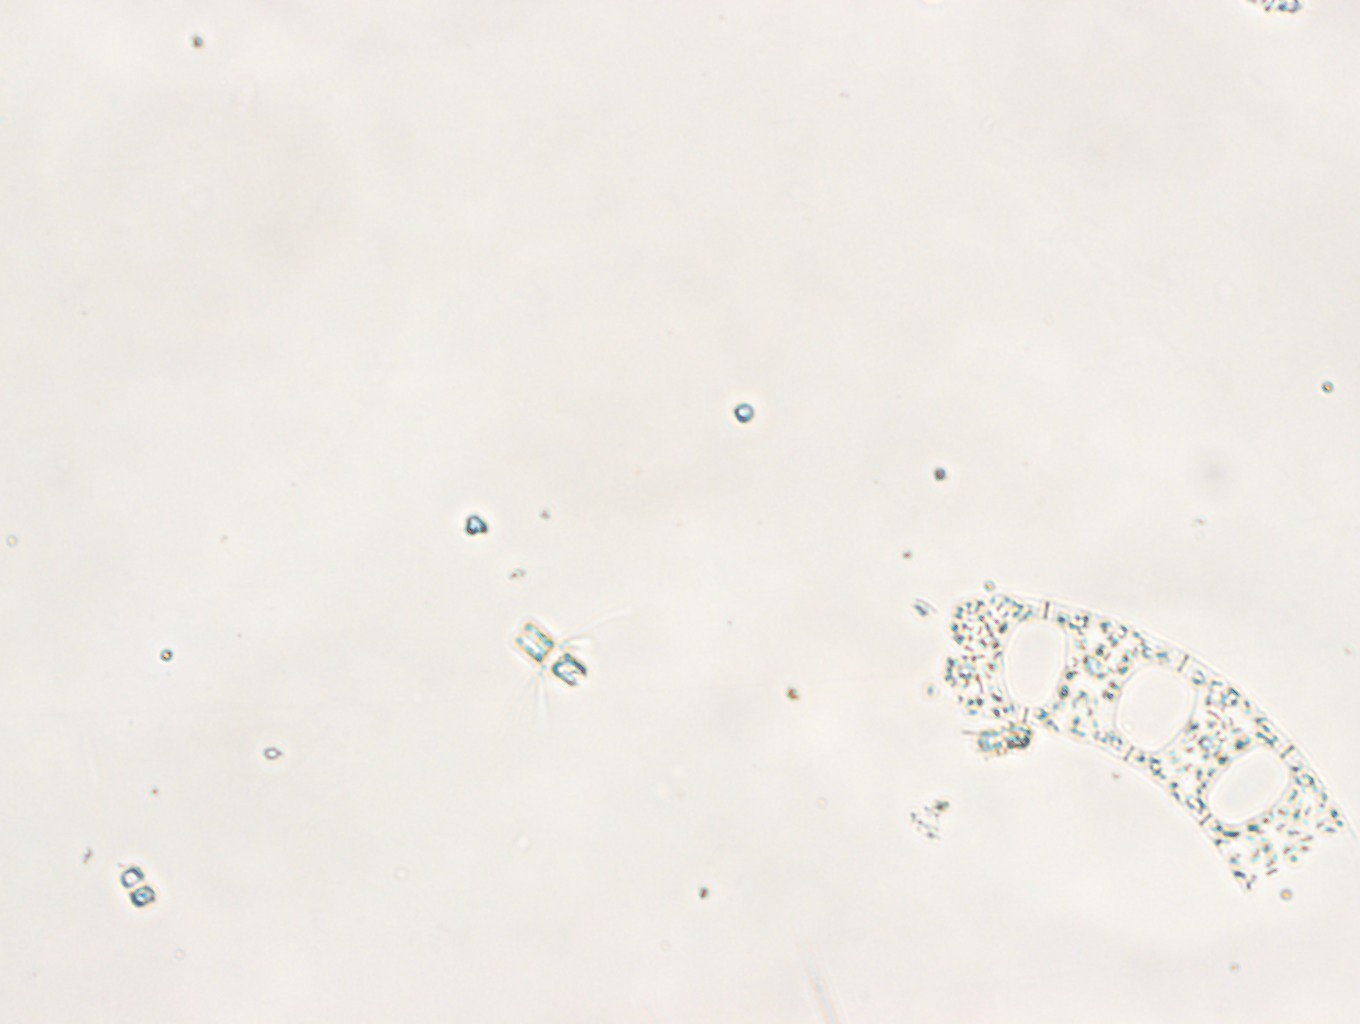chaetoceros: (501, 600, 629, 722)
eucampia: (929, 593, 1355, 887)
